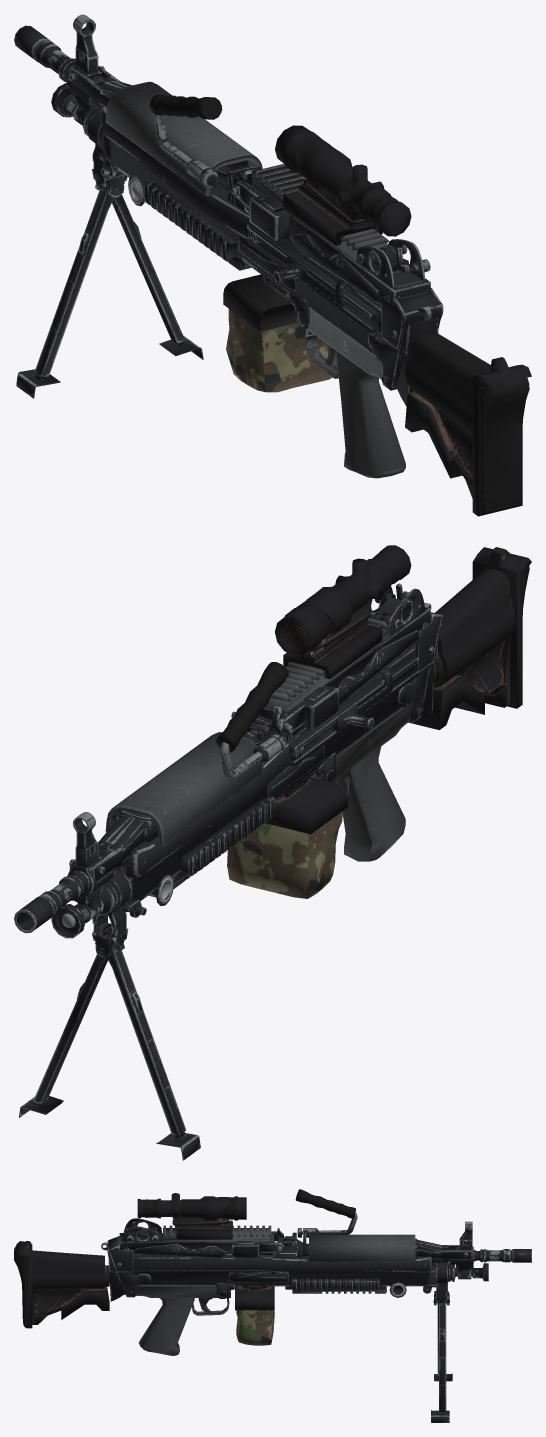
Rendered from zz_lmg.glb.
The picture shows the model from 3 angles, top to bottom: view 1: azimuth 30°, elevation 25°; view 2: azimuth 150°, elevation 25°; view 3: azimuth 270°, elevation 25°; orthographic projection. The views are drawn at different scales.
Visible parts, largest first — view 1: zz_lmg; view 2: zz_lmg; view 3: zz_lmg.
Part boxes in pixels (x1,y1,x2,y2): zz_lmg: (14,14,531,516); zz_lmg: (14,545,531,1160); zz_lmg: (14,1189,531,1422).
Bounding box in the file's own units: 0.1984 × 0.4398 × 1.
1 material, 1 textured.
